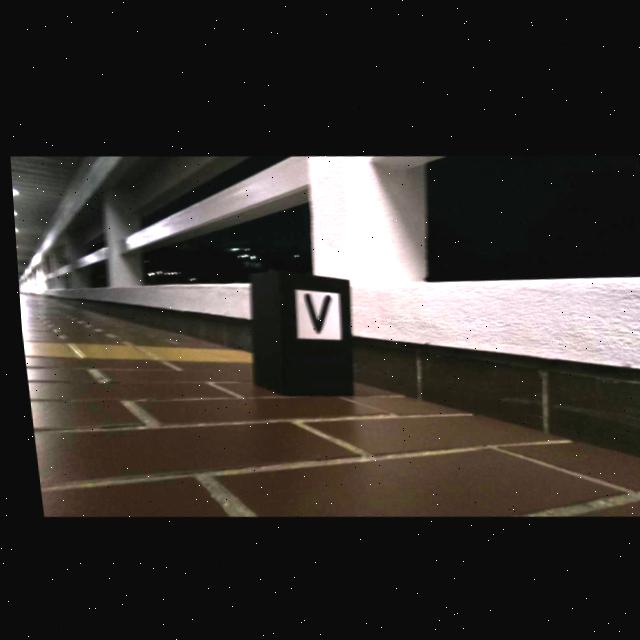V: (300, 290, 327, 329)
